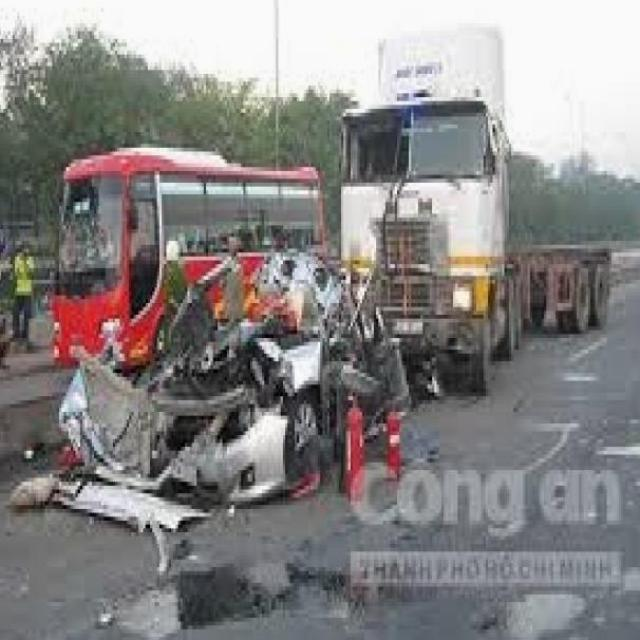accident: (26, 230, 506, 541), (329, 92, 516, 413)
